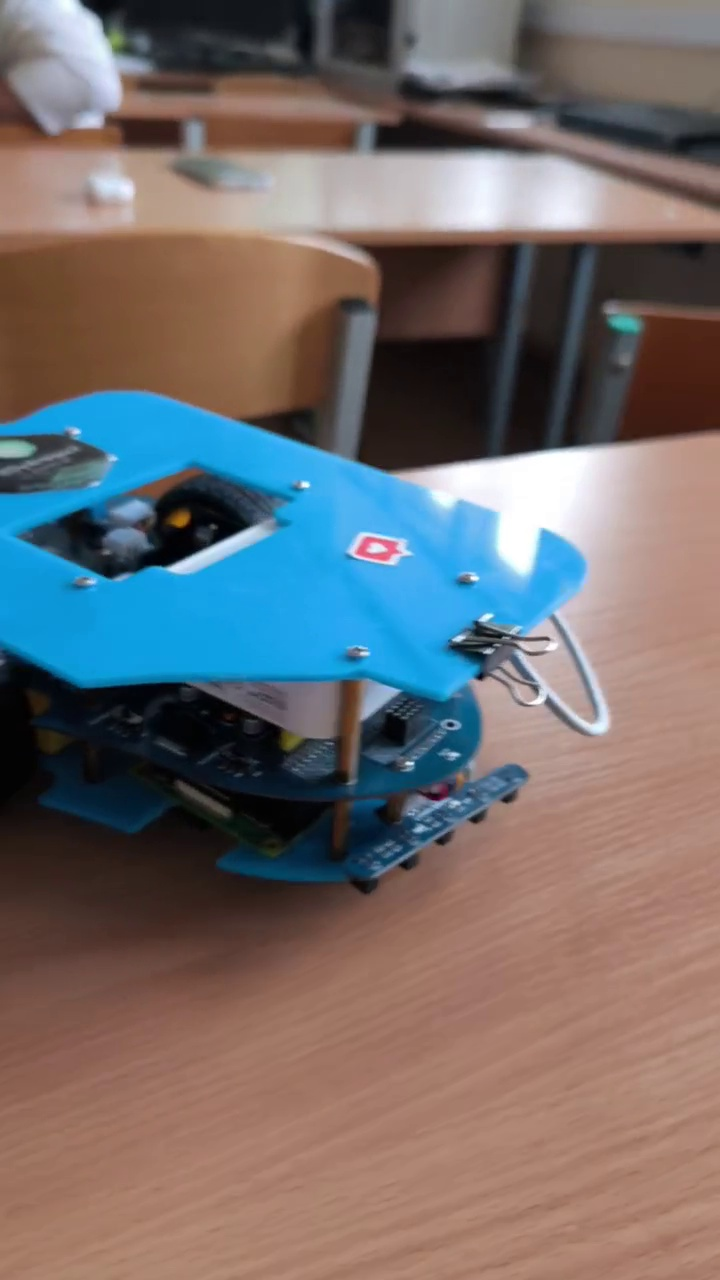robot: (1, 388, 613, 899)
